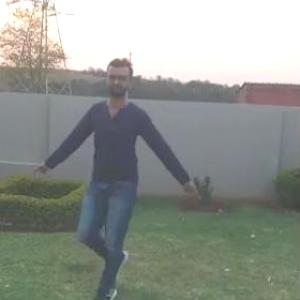land: (60, 75, 179, 250)
